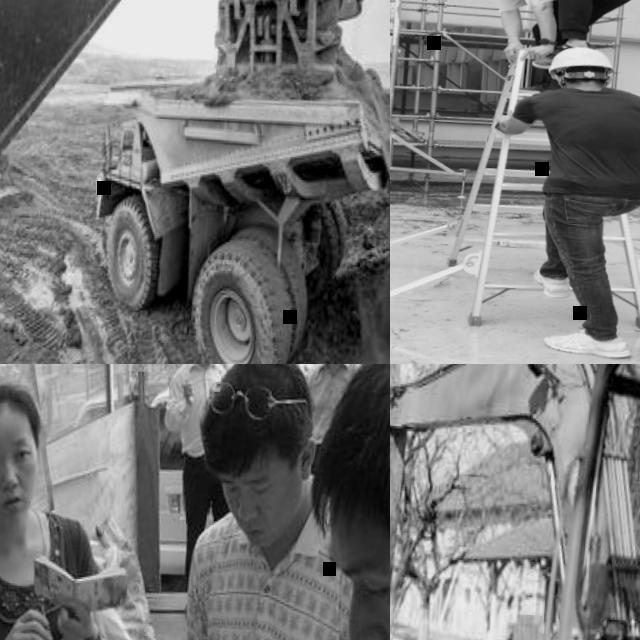helmet: (548, 44, 620, 79)
machinery: (0, 0, 390, 364), (77, 63, 390, 364), (390, 364, 640, 640)
no_helmet: (305, 364, 390, 562), (191, 364, 320, 487), (0, 378, 41, 449)
no_mask: (241, 481, 306, 553), (0, 475, 37, 519)
no_vest: (173, 512, 364, 640), (0, 512, 114, 640), (525, 81, 640, 192), (172, 364, 224, 460), (303, 364, 357, 448)
person: (154, 364, 390, 640), (475, 39, 640, 361), (0, 373, 137, 640), (274, 364, 390, 640), (149, 364, 246, 590), (430, 0, 640, 76), (297, 364, 361, 473)
vehicle: (134, 383, 228, 580)
